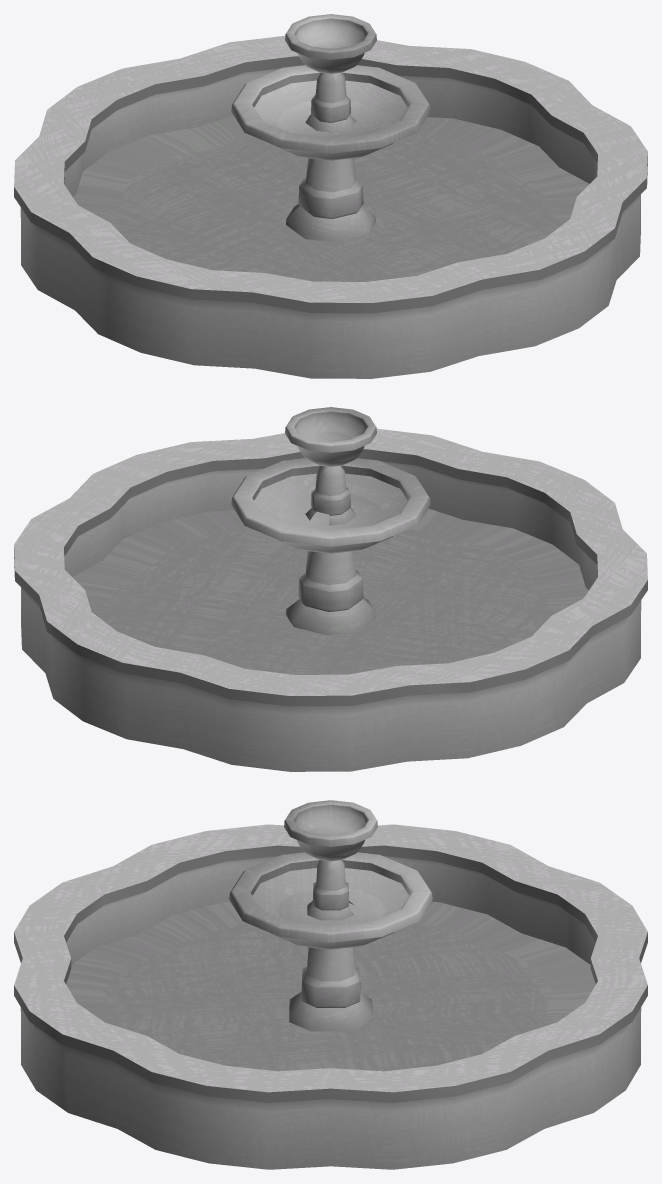
Rendered from CementFountainHand.fbx.
The picture shows the model from 3 angles, top to bottom: view 1: azimuth 30°, elevation 25°; view 2: azimuth 150°, elevation 25°; view 3: azimuth 270°, elevation 25°; orthographic projection. The views are drawn at different scales.
Parts seen in each view (by area): view 1: FencePost; view 2: FencePost; view 3: FencePost.
Boxes of the visible parts, x1,y1,x2,y2 form: FencePost: (14, 14, 647, 378); FencePost: (14, 407, 647, 771); FencePost: (14, 800, 647, 1169).
Bounding box in the file's own units: 1.42 × 0.5409 × 1.42.
Materials: 1 (1 with a texture image).
